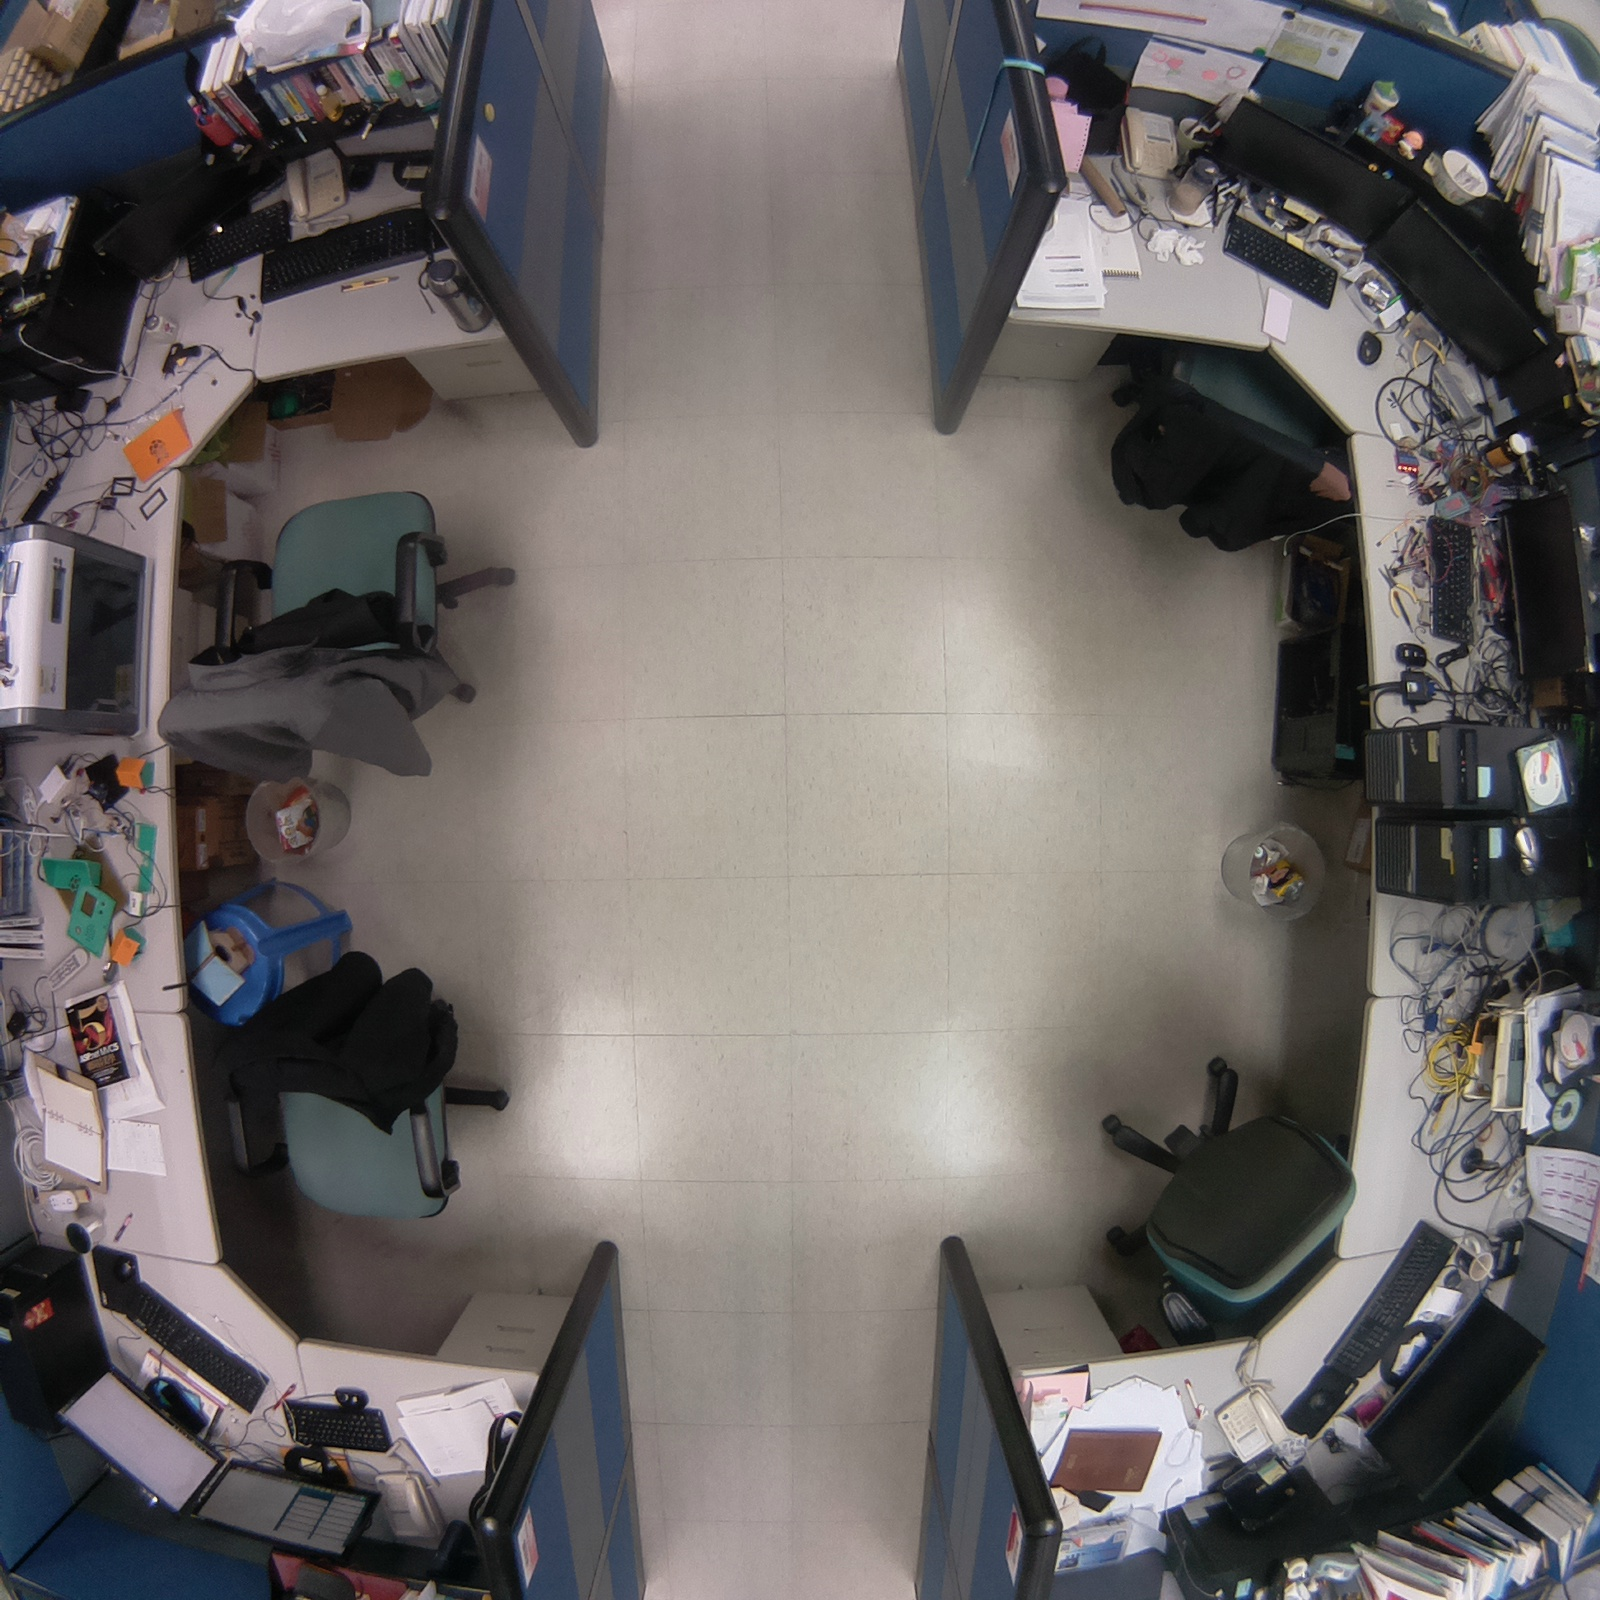chair: (132, 470, 539, 821), (196, 938, 527, 1244), (1086, 1029, 1371, 1355), (1090, 318, 1382, 577)
